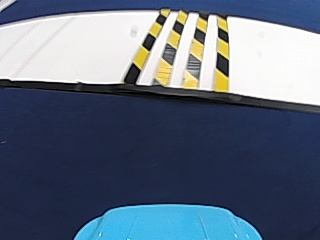bump: (126, 12, 234, 87)
